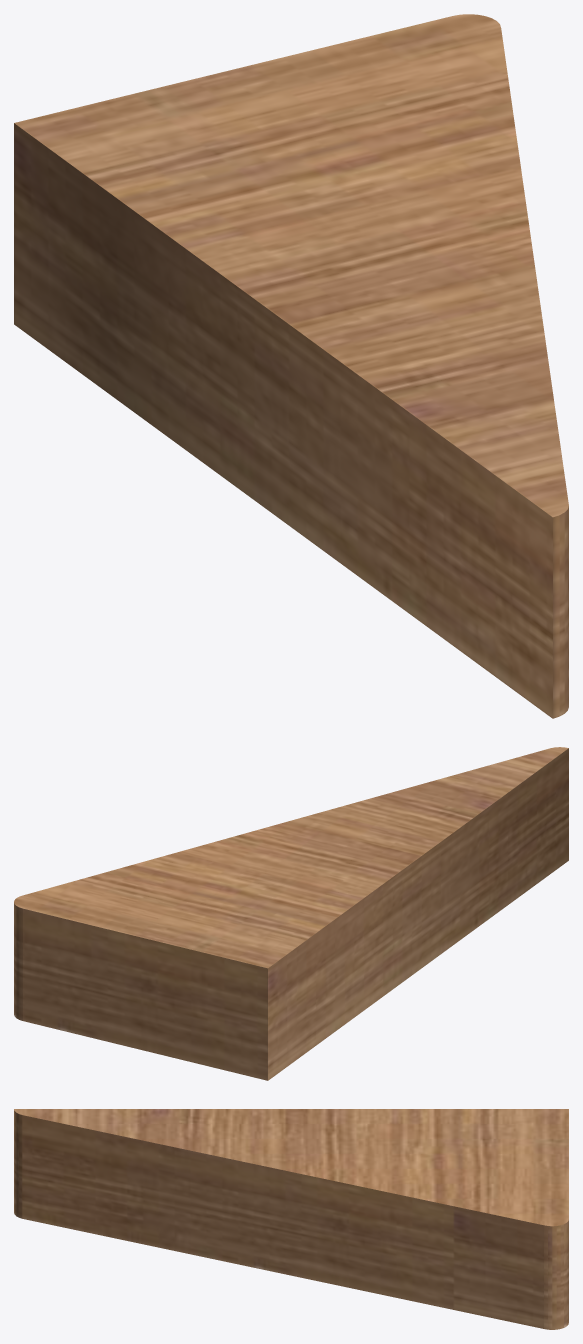
Rendered from half_triangle_oak.fbx.
The picture shows the model from 3 angles, top to bottom: view 1: azimuth 30°, elevation 25°; view 2: azimuth 150°, elevation 25°; view 3: azimuth 270°, elevation 25°; orthographic projection. The views are drawn at different scales.
Visible parts, largest first — view 1: Model; view 2: Model; view 3: Model.
Boxes of the visible parts, left/top/right/bottom form: Model: left=14, top=14, right=568, bottom=718; Model: left=14, top=747, right=568, bottom=1080; Model: left=14, top=1109, right=568, bottom=1329.
Bounding box in the file's own units: 2.42 × 1 × 4.85.
